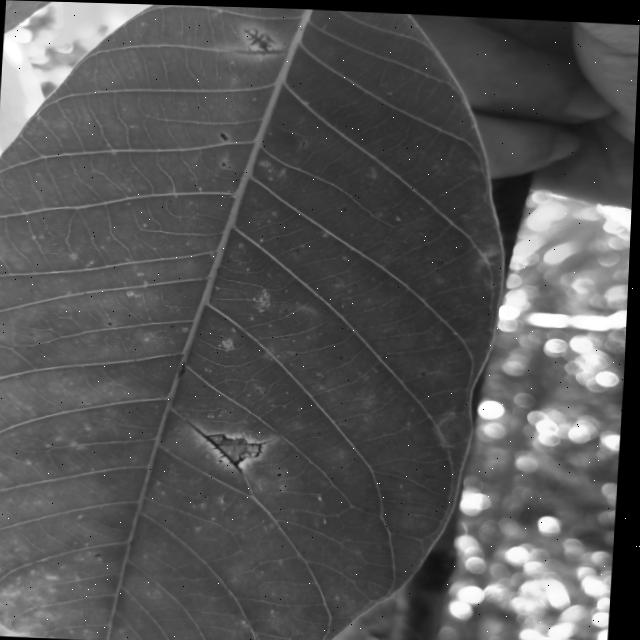Colletotrichum: (281, 471, 285, 474)
Corynespora: (188, 419, 279, 472), (238, 25, 283, 54)
